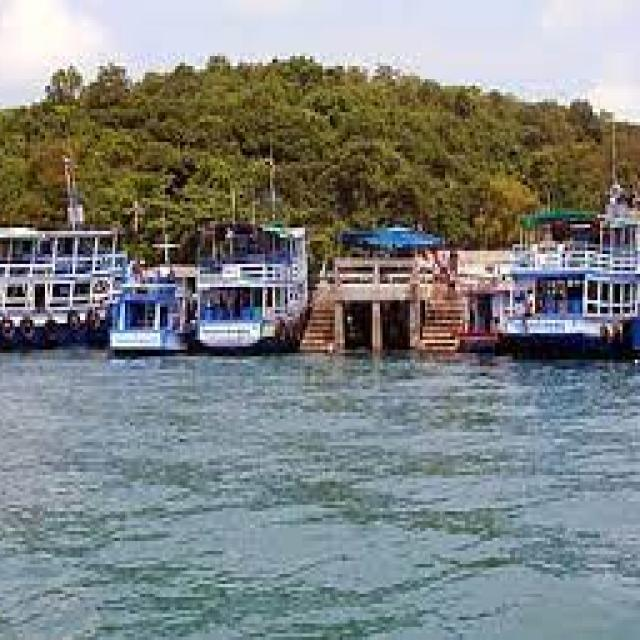passenger ship: (490, 194, 634, 348), (184, 211, 303, 371), (0, 192, 130, 336), (102, 252, 193, 346)
